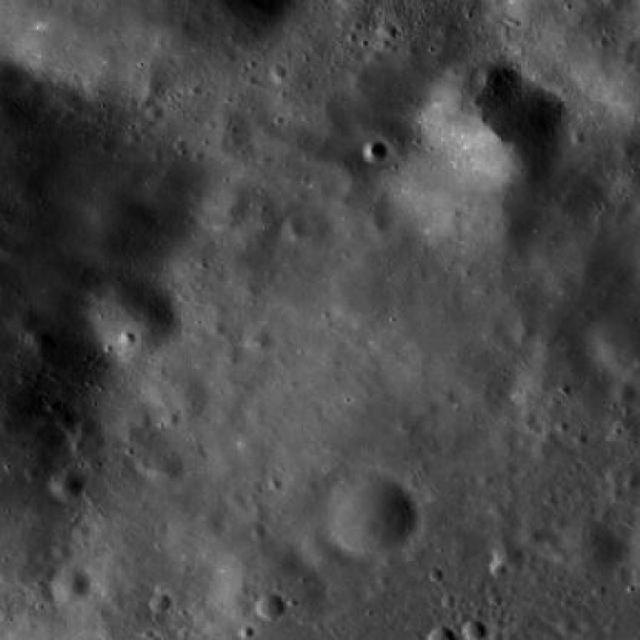crater: (398, 123, 558, 266), (418, 59, 558, 184), (215, 540, 322, 638), (324, 473, 418, 556), (88, 276, 180, 358), (522, 334, 592, 397), (140, 363, 208, 423), (561, 516, 621, 570), (198, 108, 250, 154), (204, 192, 250, 234), (302, 523, 347, 563), (49, 568, 92, 606), (479, 60, 519, 94), (48, 469, 86, 502), (150, 448, 184, 481), (10, 307, 44, 336), (504, 0, 546, 23), (494, 542, 528, 570), (242, 326, 276, 354), (530, 435, 562, 463), (26, 331, 56, 357), (256, 594, 286, 620), (282, 214, 312, 240), (362, 139, 390, 164), (366, 213, 392, 238), (612, 380, 637, 402), (462, 618, 487, 640), (523, 525, 548, 547), (484, 320, 506, 340), (515, 322, 537, 340), (614, 564, 634, 582), (604, 465, 624, 483), (78, 416, 98, 434), (149, 594, 169, 612), (269, 63, 288, 80), (162, 410, 181, 427), (72, 523, 91, 540), (558, 618, 578, 634), (484, 502, 502, 518), (146, 105, 163, 121), (134, 413, 151, 429), (228, 494, 246, 509), (208, 318, 226, 333), (1, 0, 2, 1)
